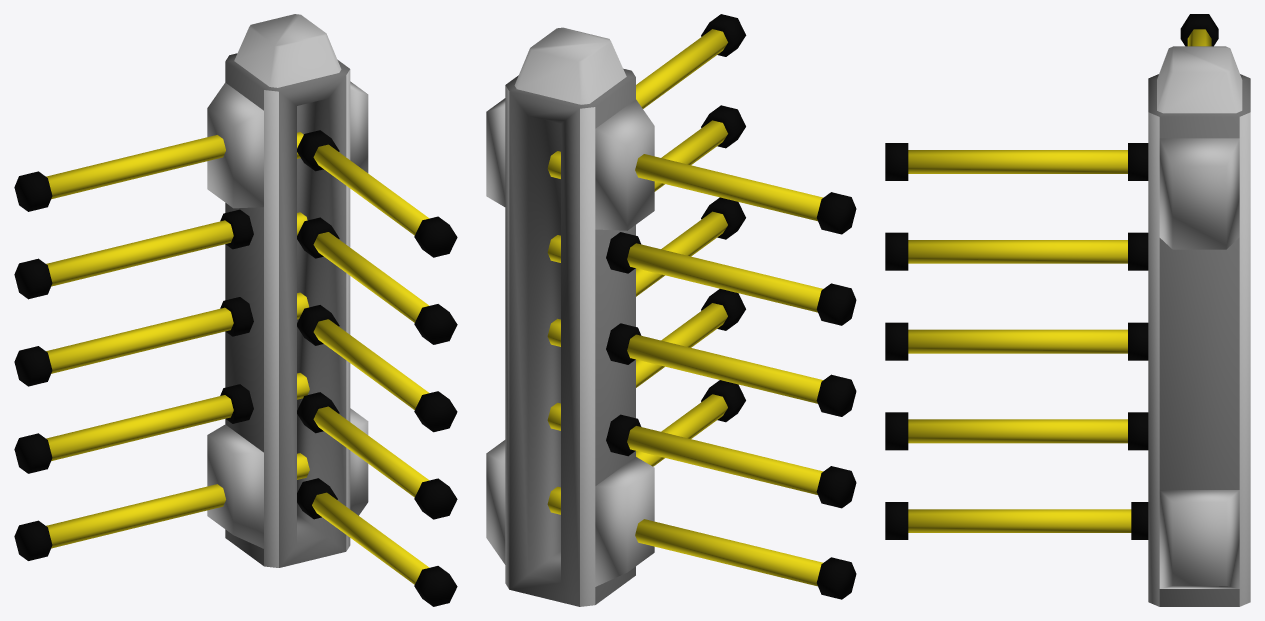
The model's file is LastWall-2.fbx.
3 renders of one model, left to right at view 1: azimuth 30°, elevation 25°; view 2: azimuth 150°, elevation 25°; view 3: azimuth 270°, elevation 25°, orthographic. The views are drawn at different scales.
Parts seen in each view (by area): view 1: Cube; view 2: Cube; view 3: Cube.
Boxes of the visible parts, x1,y1,x2,y2 form: Cube: (14,14,457,606); Cube: (486,14,856,606); Cube: (885,14,1250,606).
Size of the model in its own units: 0.8018 by 1.18 by 0.7442.
